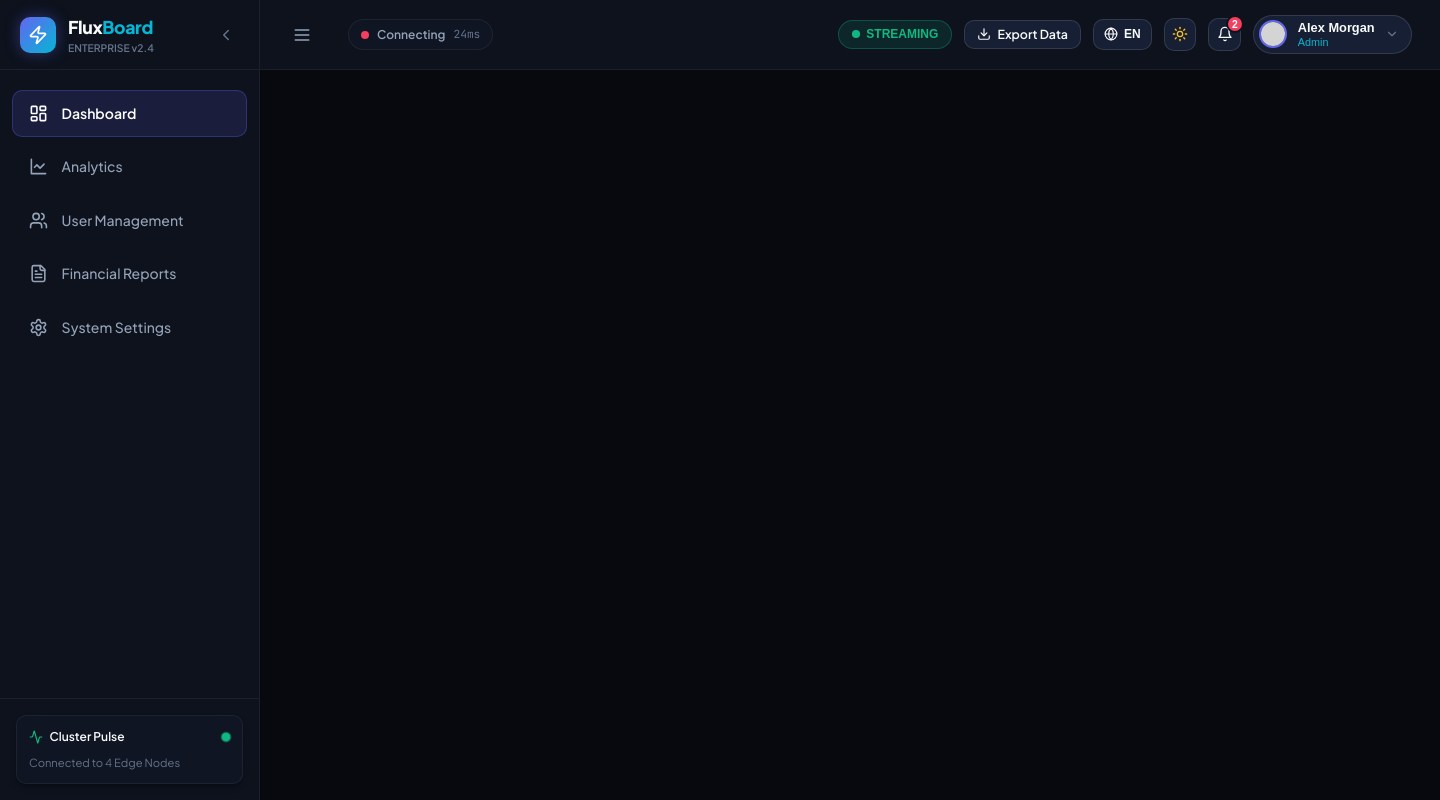
Test: FluxBoard Enterprise Operations E2E Flow › navigates to analytics page and executes optimistic mutation
Click the link "Analytics" at (76, 167), box [29,157,123,176]
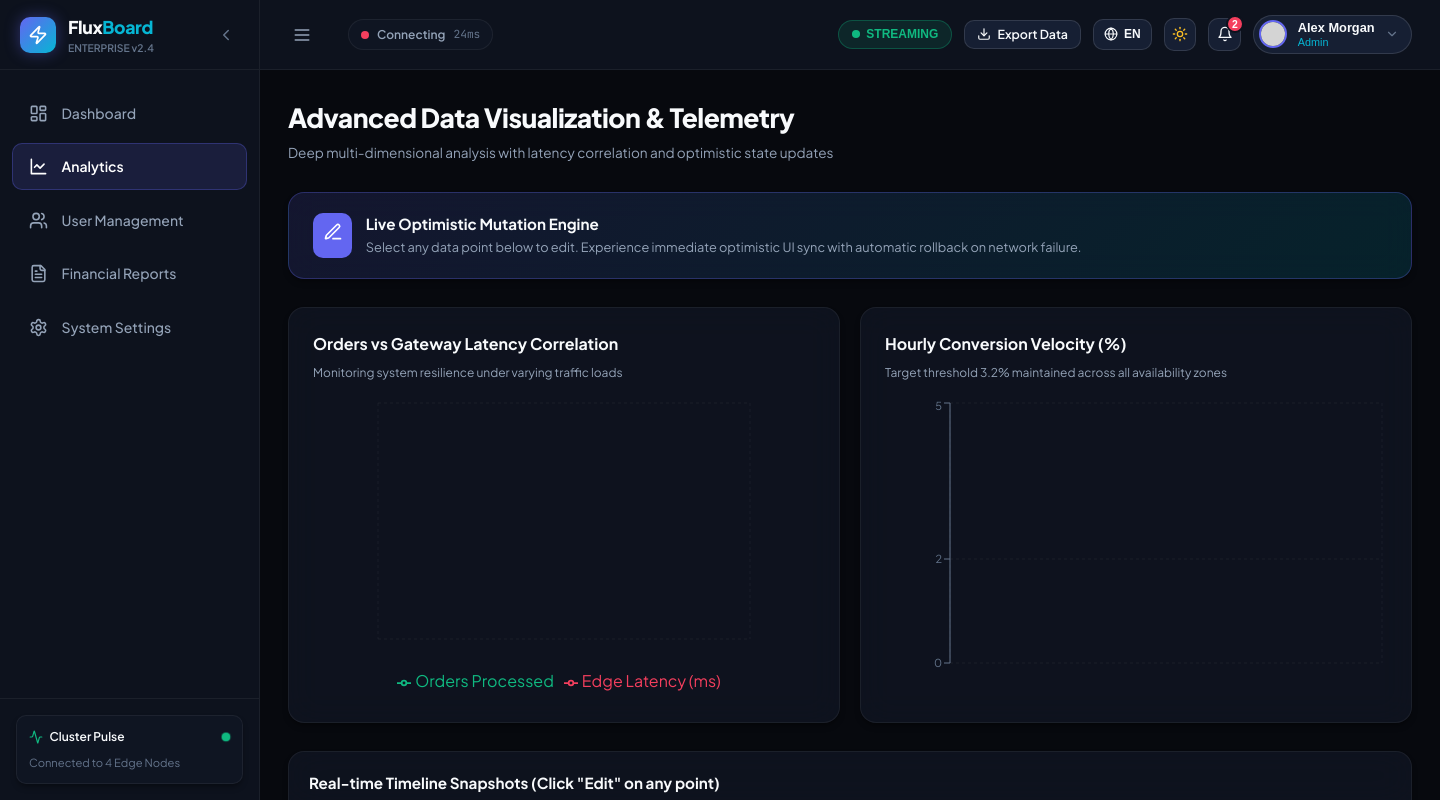
Result: the heading "Advanced Data Visualization & Telemetry" is shown at [288,101,794,134]
